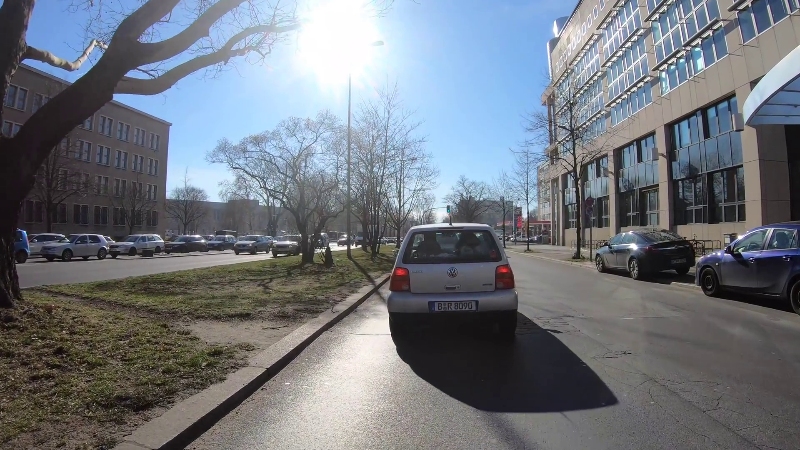Plate: (426, 299, 478, 311), (670, 254, 690, 265)
